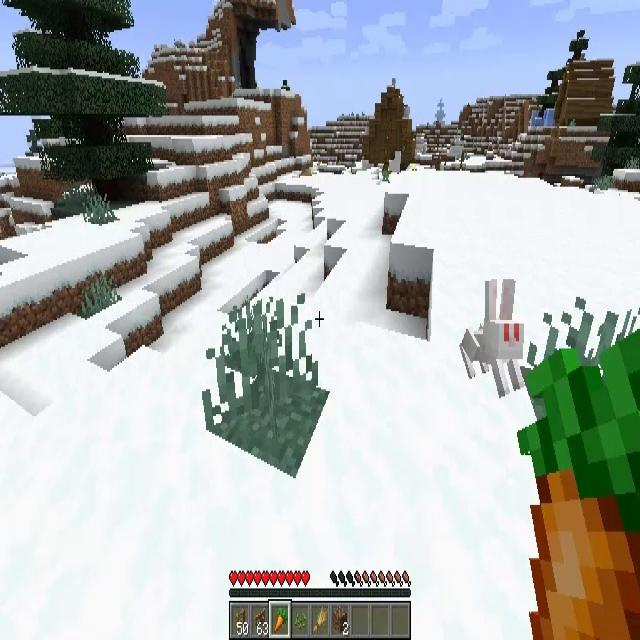rabbit: (459, 282, 524, 394)
